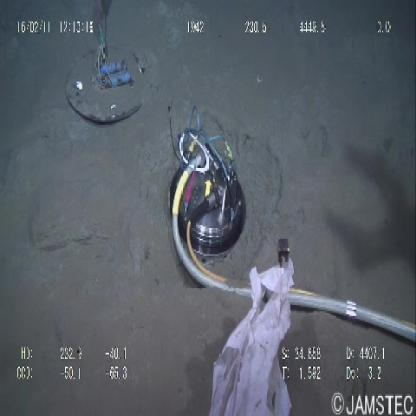Rov: (163, 92, 246, 304), (65, 2, 152, 131)
Rác: (208, 245, 296, 416)
